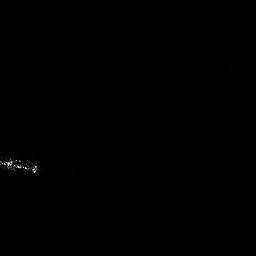ship: (1, 156, 39, 175)
